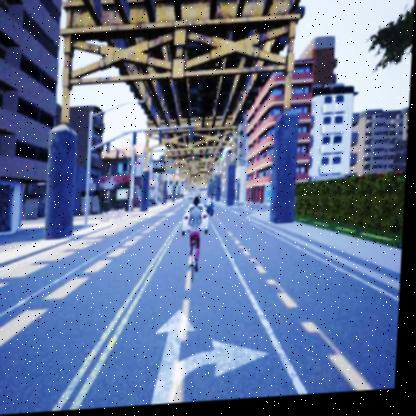bike: (188, 197, 207, 275)
vehicle: (184, 199, 212, 239)
